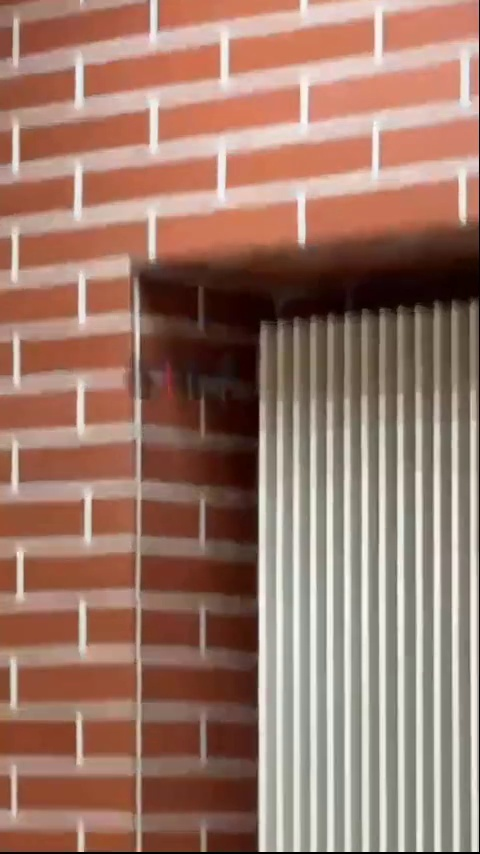drone: (124, 349, 273, 401)
